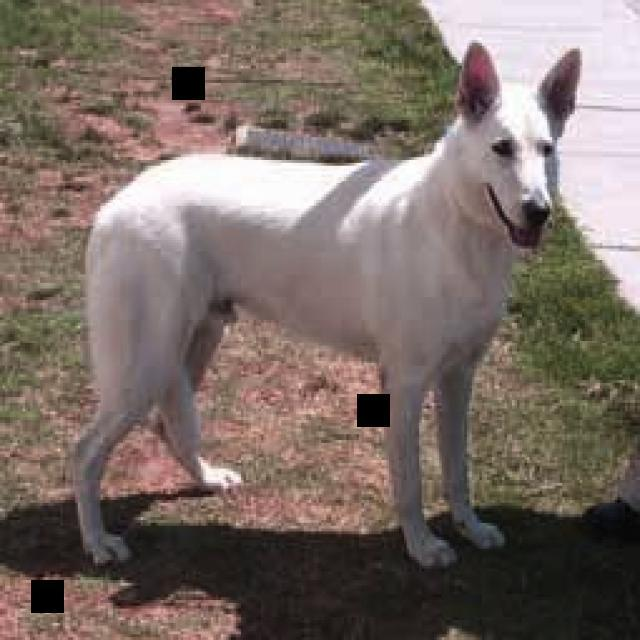adult_dog: (67, 39, 586, 572)
